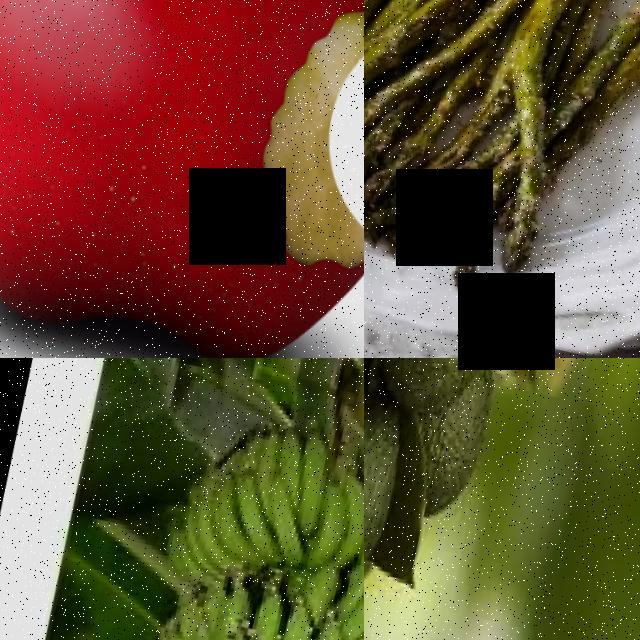apple: (0, 0, 364, 358)
avocado: (390, 358, 512, 522), (364, 370, 421, 618), (364, 358, 532, 423)
banana: (47, 358, 364, 640)
